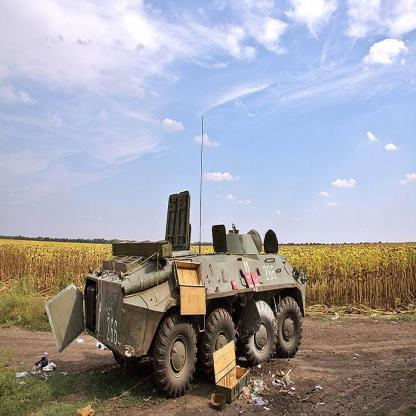MIL_IFV: (48, 189, 308, 398)
